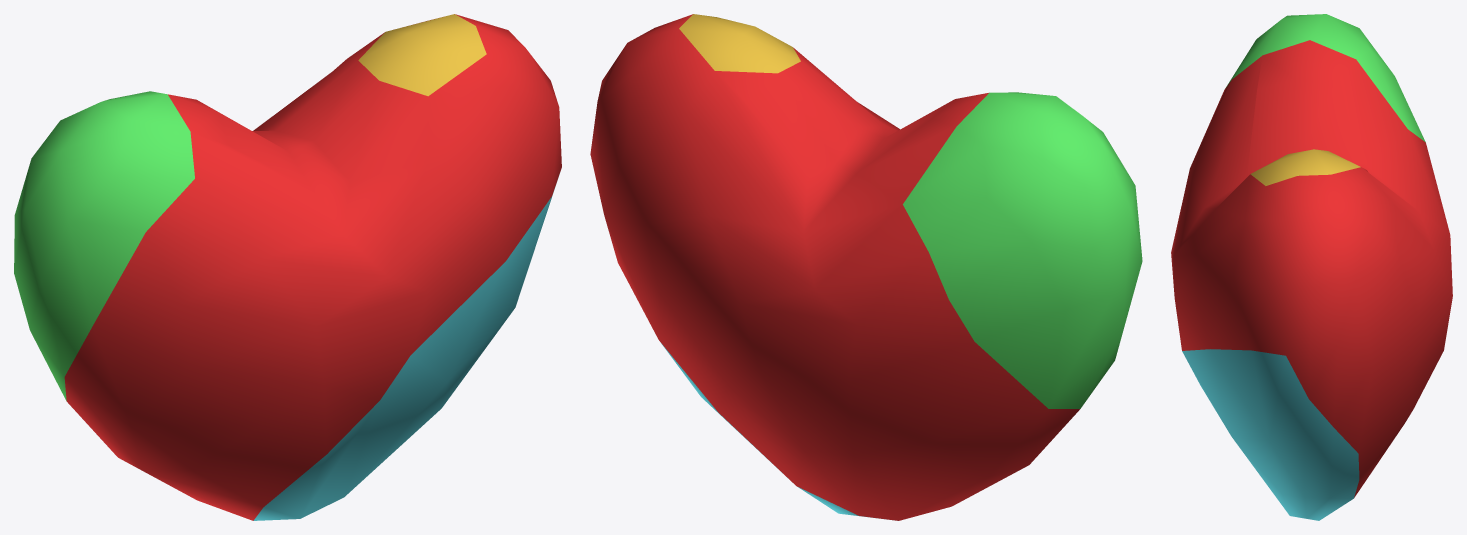
The model's file is Corazon.fbx.
3 renders of one model, left to right at view 1: azimuth 30°, elevation 25°; view 2: azimuth 150°, elevation 25°; view 3: azimuth 270°, elevation 25°, orthographic. The views are drawn at different scales.
Parts seen in each view (by area): view 1: corazon; view 2: corazon; view 3: corazon.
Boxes of the visible parts, box(x1,y1,x2,y2) form: corazon: box(14, 14, 561, 520); corazon: box(590, 14, 1142, 520); corazon: box(1171, 14, 1452, 520).
Bounding box in the file's own units: 275 × 225 × 139.
